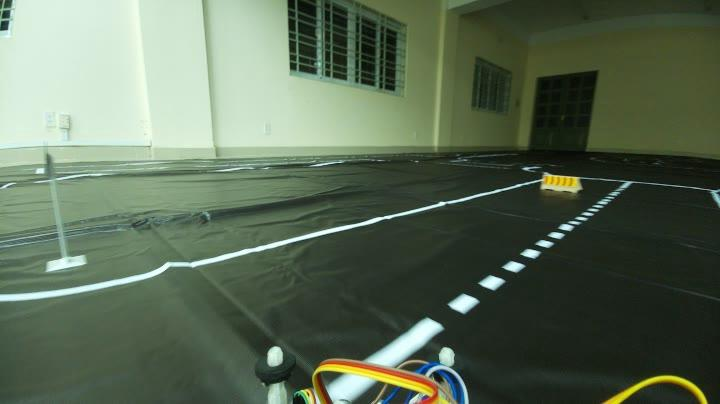roadblock: (538, 171, 582, 194)
